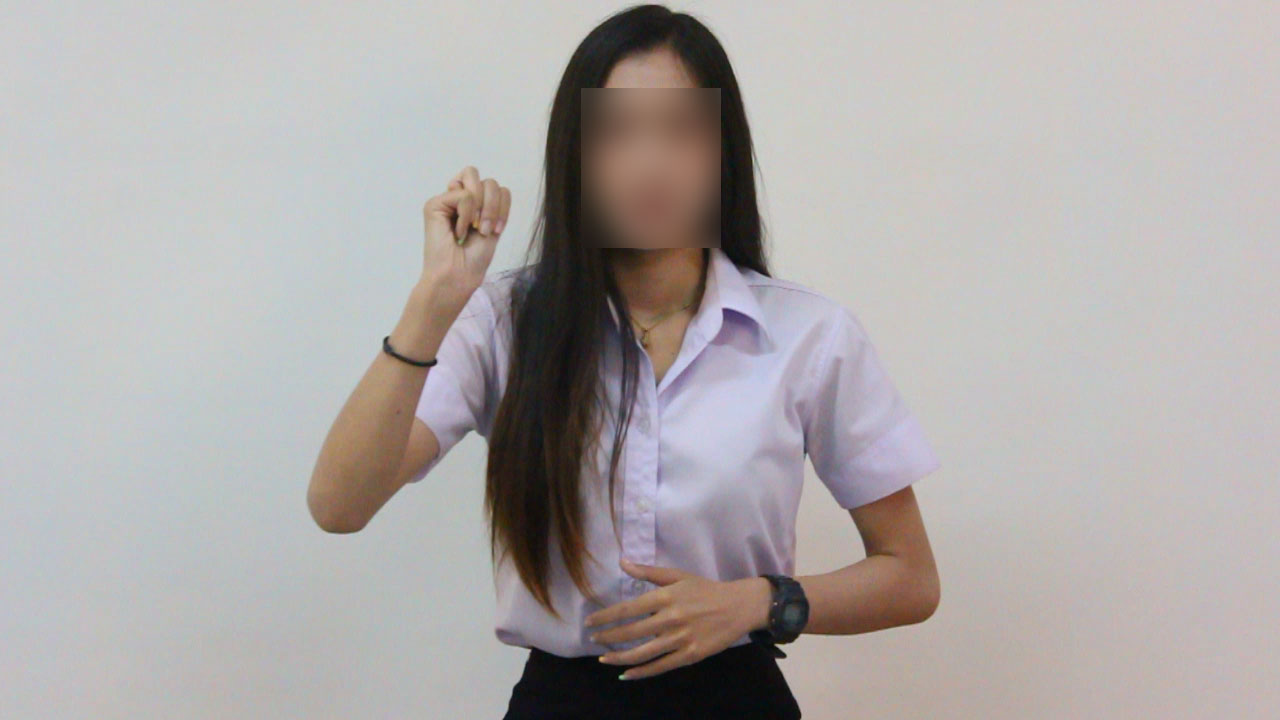mor: (410, 151, 521, 297)
